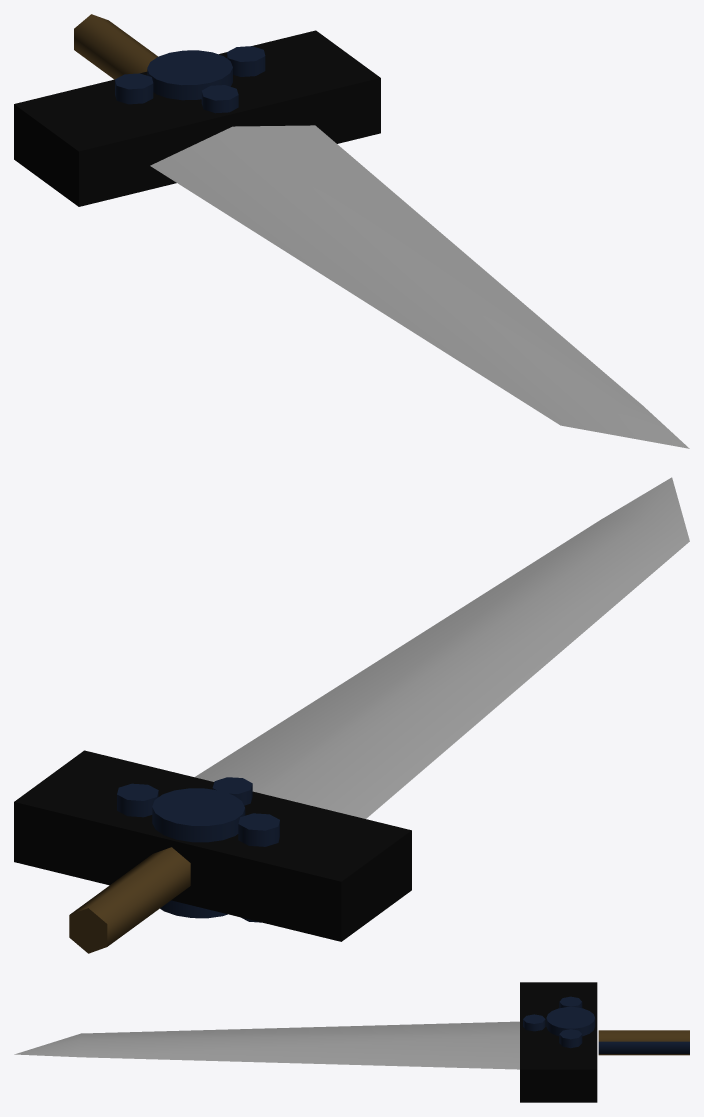
File: Knife.FBX
3 views of the same model, one above another, from view 1: azimuth 30°, elevation 25°; view 2: azimuth 150°, elevation 25°; view 3: azimuth 270°, elevation 25° (orthographic). The views are drawn at different scales.
Parts seen in each view (by area): view 1: Box001; view 2: Box001; view 3: Box001.
Boxes of the visible parts, x1,y1,x2,y2 form: Box001: (14, 14, 689, 448); Box001: (14, 477, 689, 953); Box001: (14, 982, 689, 1102).
Bounding box in the file's own units: 18.58 × 5 × 60.57.
